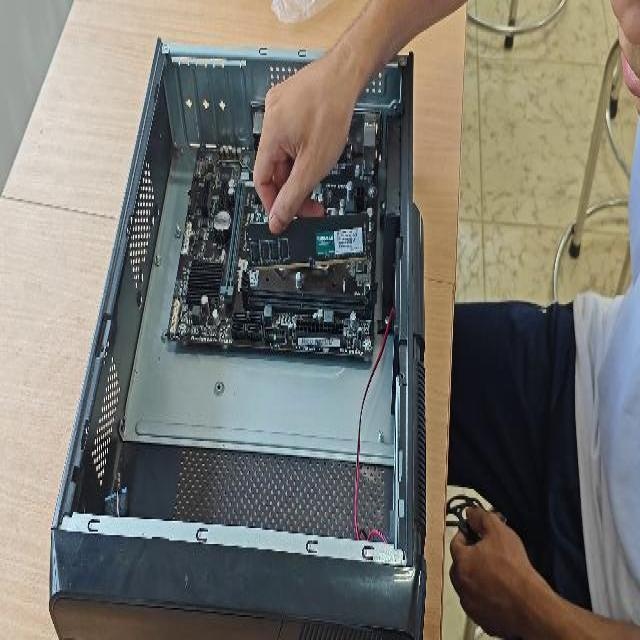Mainboard: (167, 143, 376, 357)
RAM: (241, 210, 368, 272)
